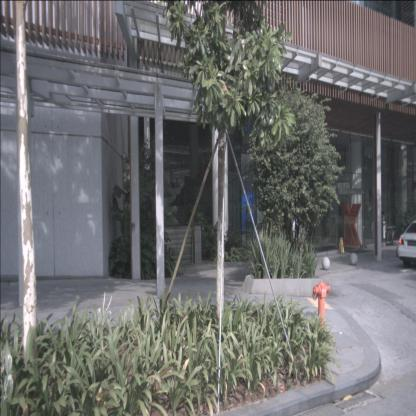vehicle-car: (397, 218, 416, 269)
